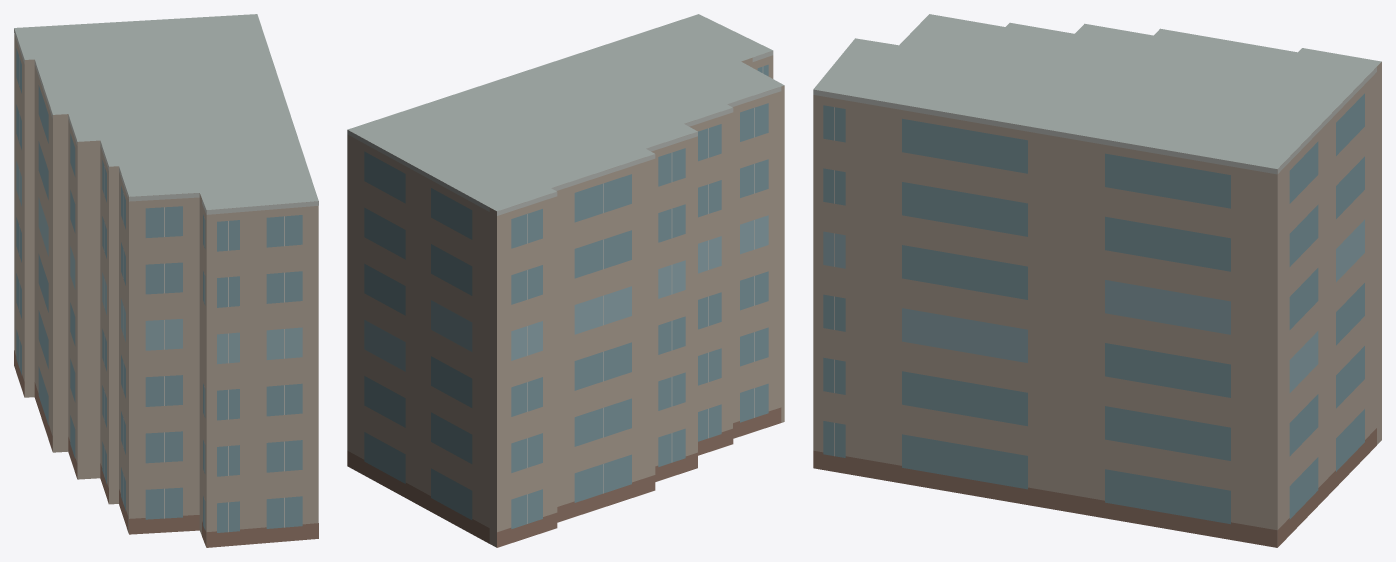
Rendered from survey-upis-32756135.glb.
3 views of the same model, side by side, from view 1: azimuth 30°, elevation 25°; view 2: azimuth 150°, elevation 25°; view 3: azimuth 270°, elevation 25° (orthographic). The views are drawn at different scales.
Parts seen in each view (by area): view 1: survey-upis-32756135.tmp; view 2: survey-upis-32756135.tmp; view 3: survey-upis-32756135.tmp.
Boxes of the visible parts, x1,y1,x2,y2 form: survey-upis-32756135.tmp: (14,14,318,547); survey-upis-32756135.tmp: (347,14,784,547); survey-upis-32756135.tmp: (813,14,1381,547).
Size of the model in its own units: 15.39 by 17.5 by 23.82.
